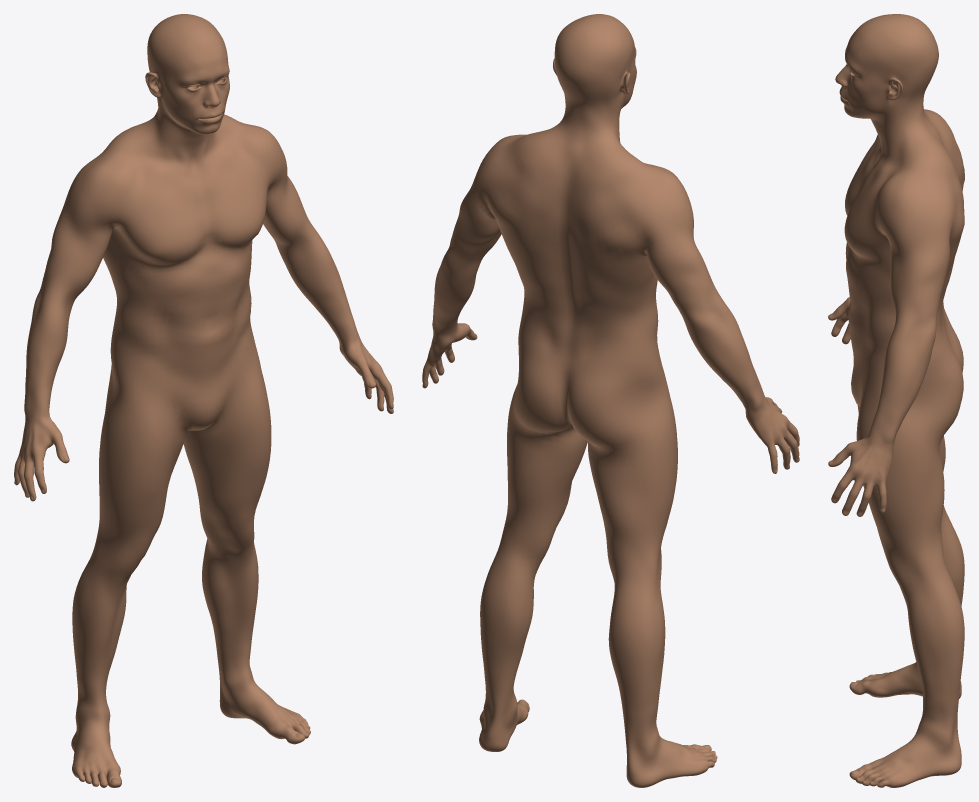
File: warrior-basemesh.glb
The picture shows the model from 3 angles, left to right: view 1: azimuth 30°, elevation 25°; view 2: azimuth 150°, elevation 25°; view 3: azimuth 270°, elevation 25°; orthographic projection.
Parts seen in each view (by area): view 1: GEO-body_male_realistic; view 2: GEO-body_male_realistic; view 3: GEO-body_male_realistic.
Part boxes in pixels (x1,y1,x2,y2): GEO-body_male_realistic: (14, 14, 393, 787); GEO-body_male_realistic: (422, 14, 799, 787); GEO-body_male_realistic: (828, 14, 964, 787).
Bounding box in the file's own units: 1.05 × 2.01 × 0.3453.
